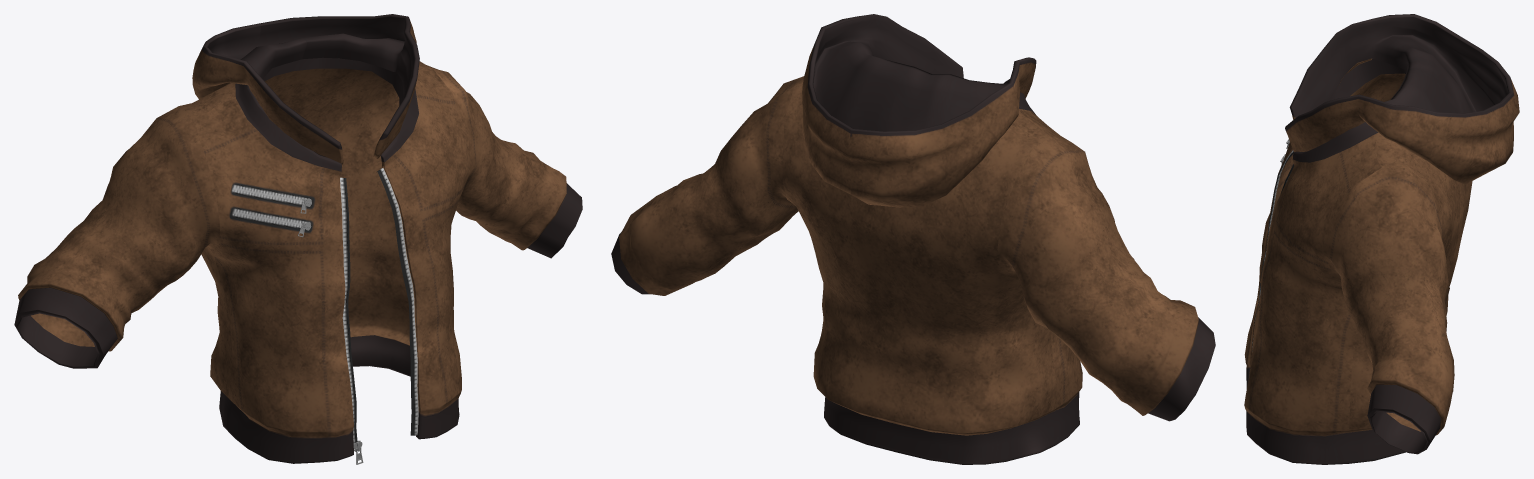
The model's file is leather_jacket.glb.
3 renders of one model, left to right at view 1: azimuth 30°, elevation 25°; view 2: azimuth 150°, elevation 25°; view 3: azimuth 270°, elevation 25°, orthographic. The views are drawn at different scales.
Visible parts, largest first — view 1: Object_3; view 2: Object_3; view 3: Object_3.
Boxes of the visible parts, x1,y1,x2,y2 form: Object_3: (14, 14, 582, 463); Object_3: (611, 14, 1215, 464); Object_3: (1244, 14, 1519, 464).
Bounding box in the file's own units: 0.9416 × 0.5997 × 0.4106.
Materials: 2 (1 with a texture image).
